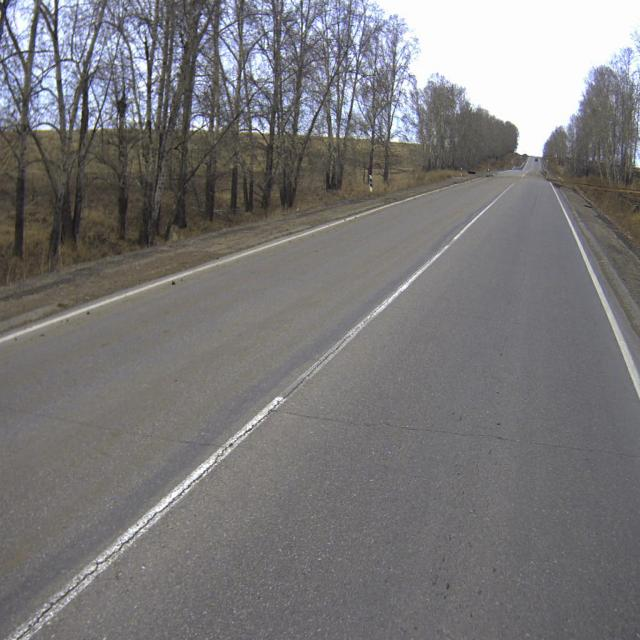road: (0, 157, 640, 639)
